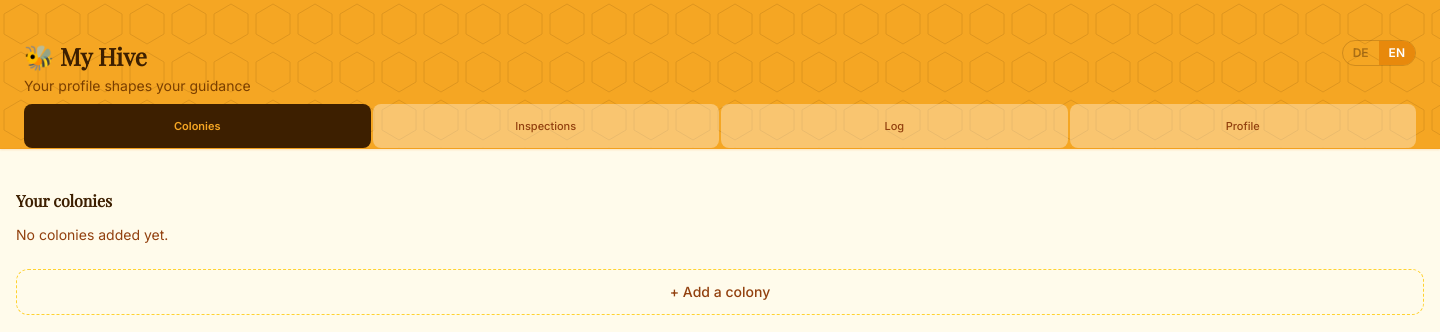
Scenario: MyHiveScreen › shows empty log message when no entries
Click the button "Log": coordinates (894, 126) [721, 104, 1068, 148]
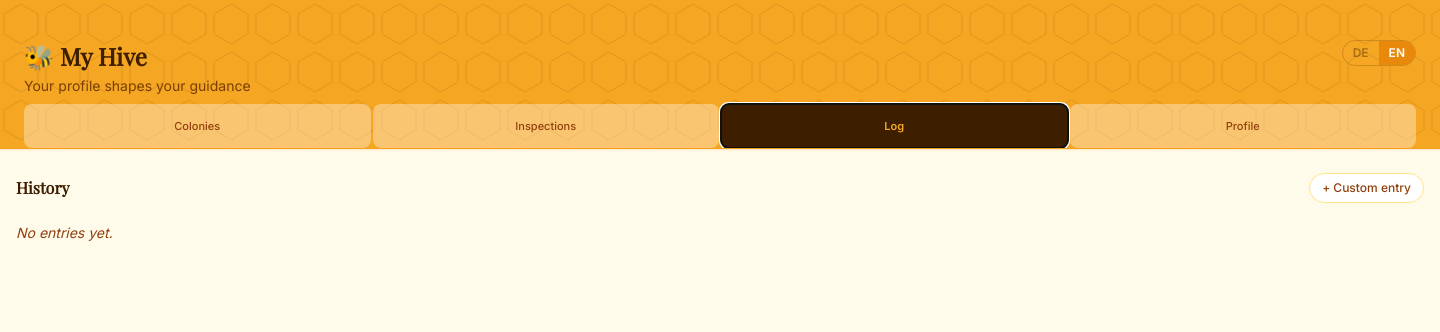
Now the text "No entries yet." is shown, box [16, 224, 113, 241]
